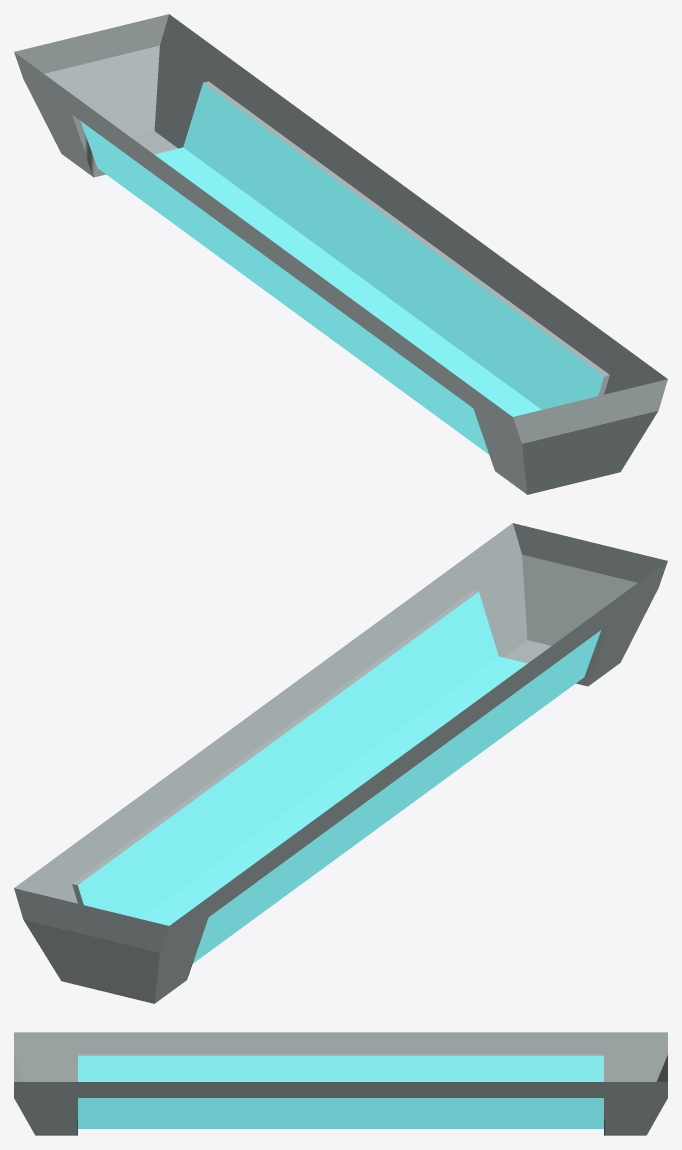
Rendered from Luces.fbx.
The picture shows the model from 3 angles, top to bottom: view 1: azimuth 30°, elevation 25°; view 2: azimuth 150°, elevation 25°; view 3: azimuth 270°, elevation 25°; orthographic projection. The views are drawn at different scales.
Visible parts, largest first — view 1: Luces.Generica; view 2: Luces.Generica; view 3: Luces.Generica.
Part boxes in pixels (x1=…): Luces.Generica: x1=14, y1=14, x2=667, y2=494; Luces.Generica: x1=14, y1=523, x2=667, y2=1003; Luces.Generica: x1=14, y1=1032, x2=667, y2=1135.
Bounding box in the file's own units: 60 × 36 × 334.
Materials: 1 (1 with a texture image).
